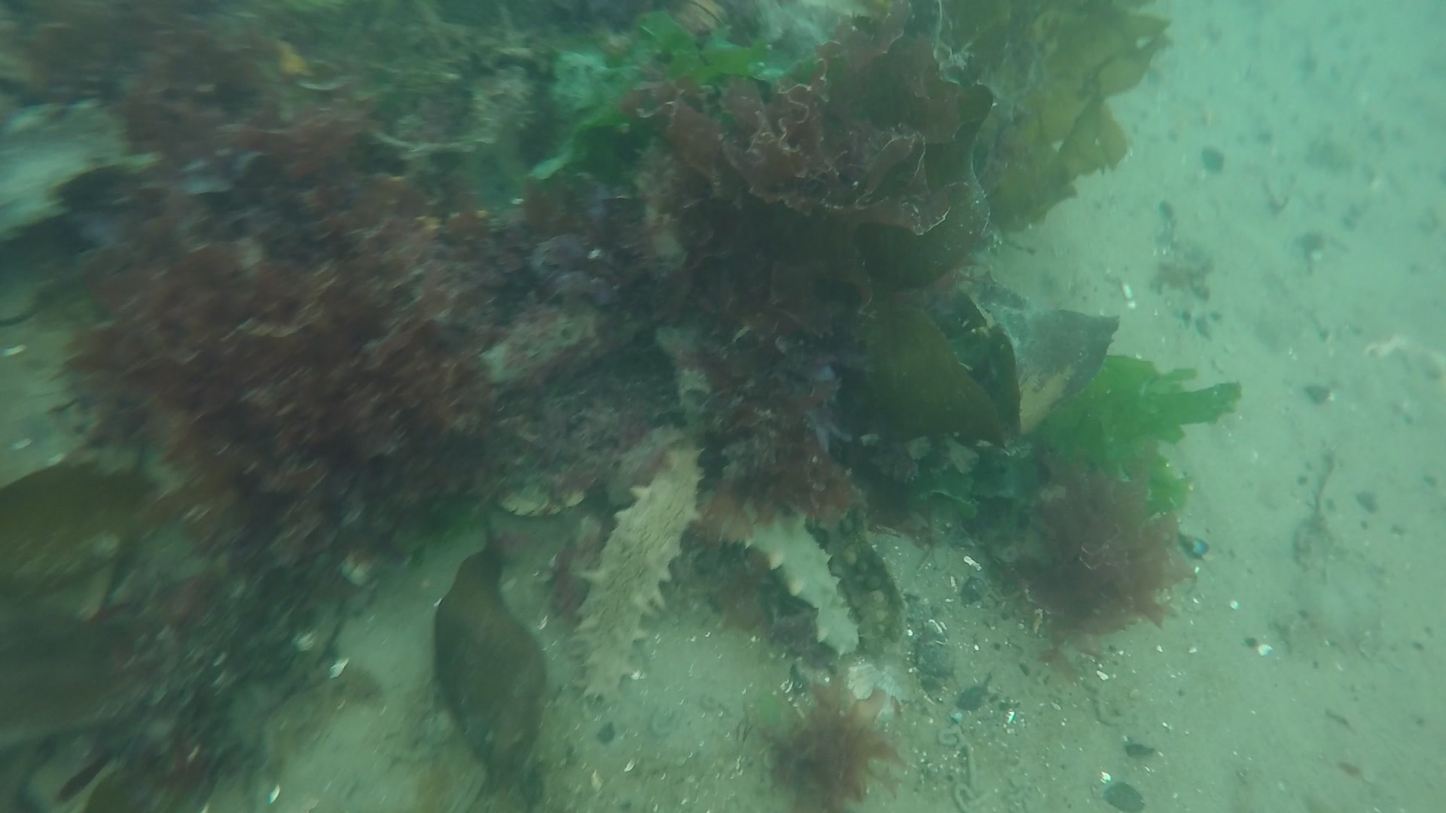echinus: (571, 446, 712, 702), (712, 484, 853, 656)
